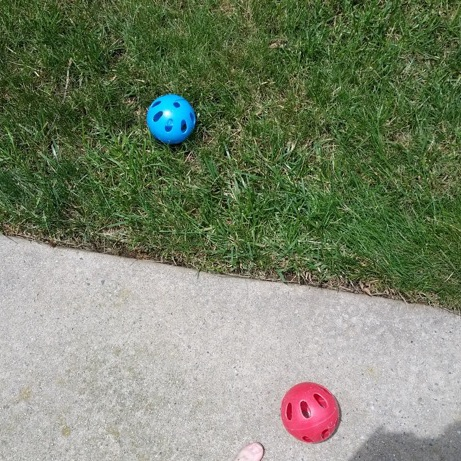blueball: (143, 91, 199, 145)
redball: (276, 377, 344, 444)
